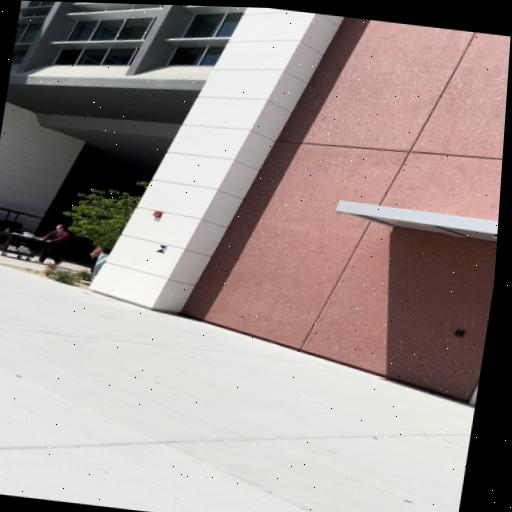target6: (155, 245, 168, 254)
